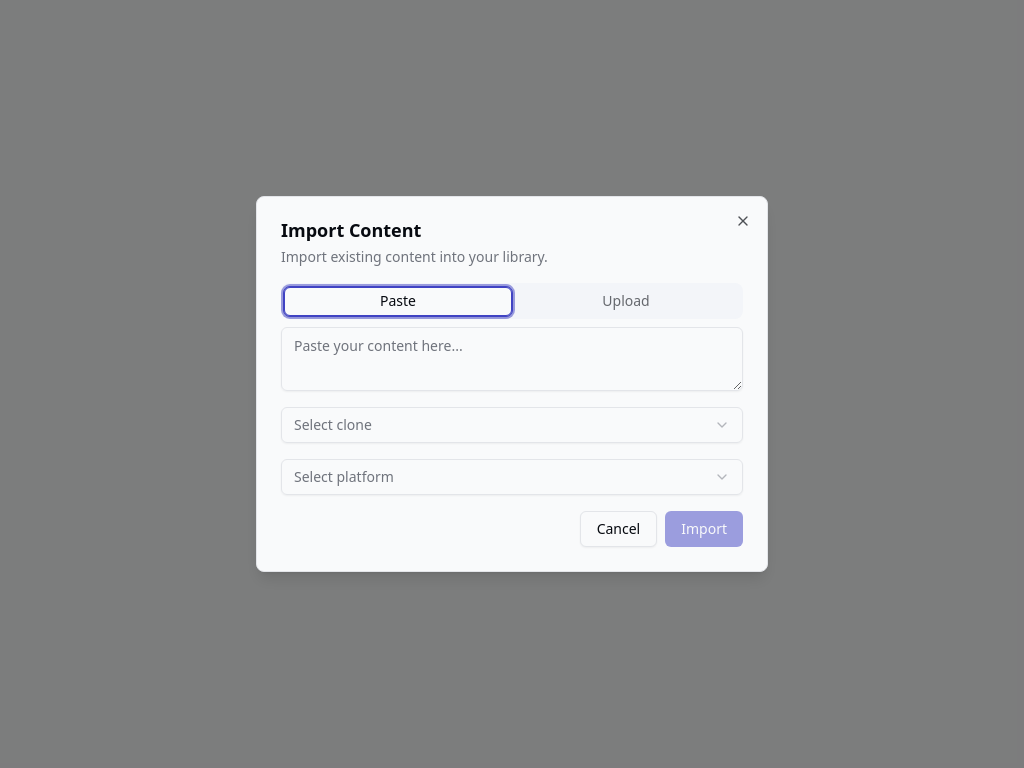
Test case: ImportDialog › shows upload tab with dropzone
The width and height of the screenshot is (1024, 768).
Click the tab "Upload".
click(626, 301)  # box [512,286,740,316]
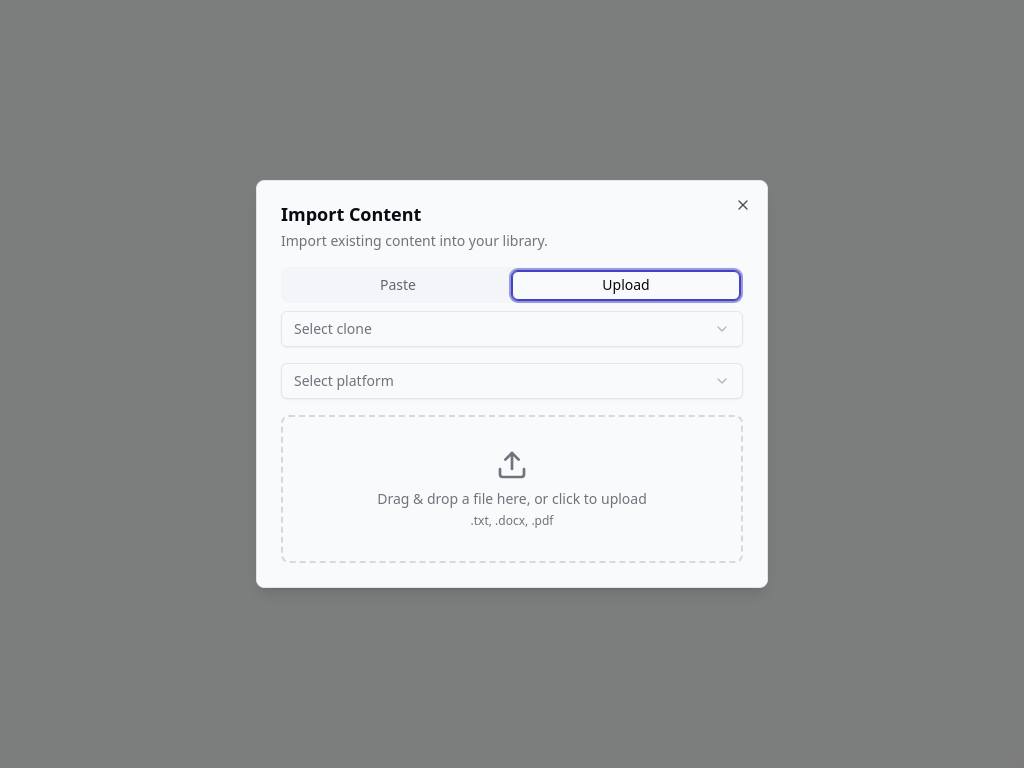
Now the text "Drag & drop a file here, or click to upload" is shown, box [377,489,647,509]
